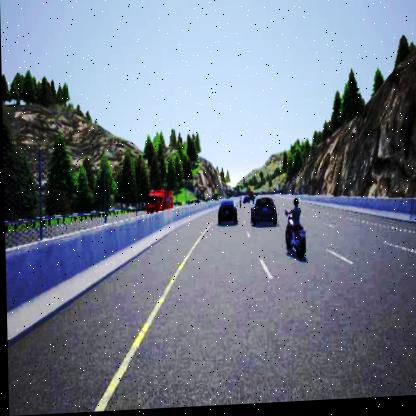motobike: (283, 198, 308, 261)
vehicle: (242, 192, 275, 228), (144, 187, 173, 213), (216, 202, 236, 226)
